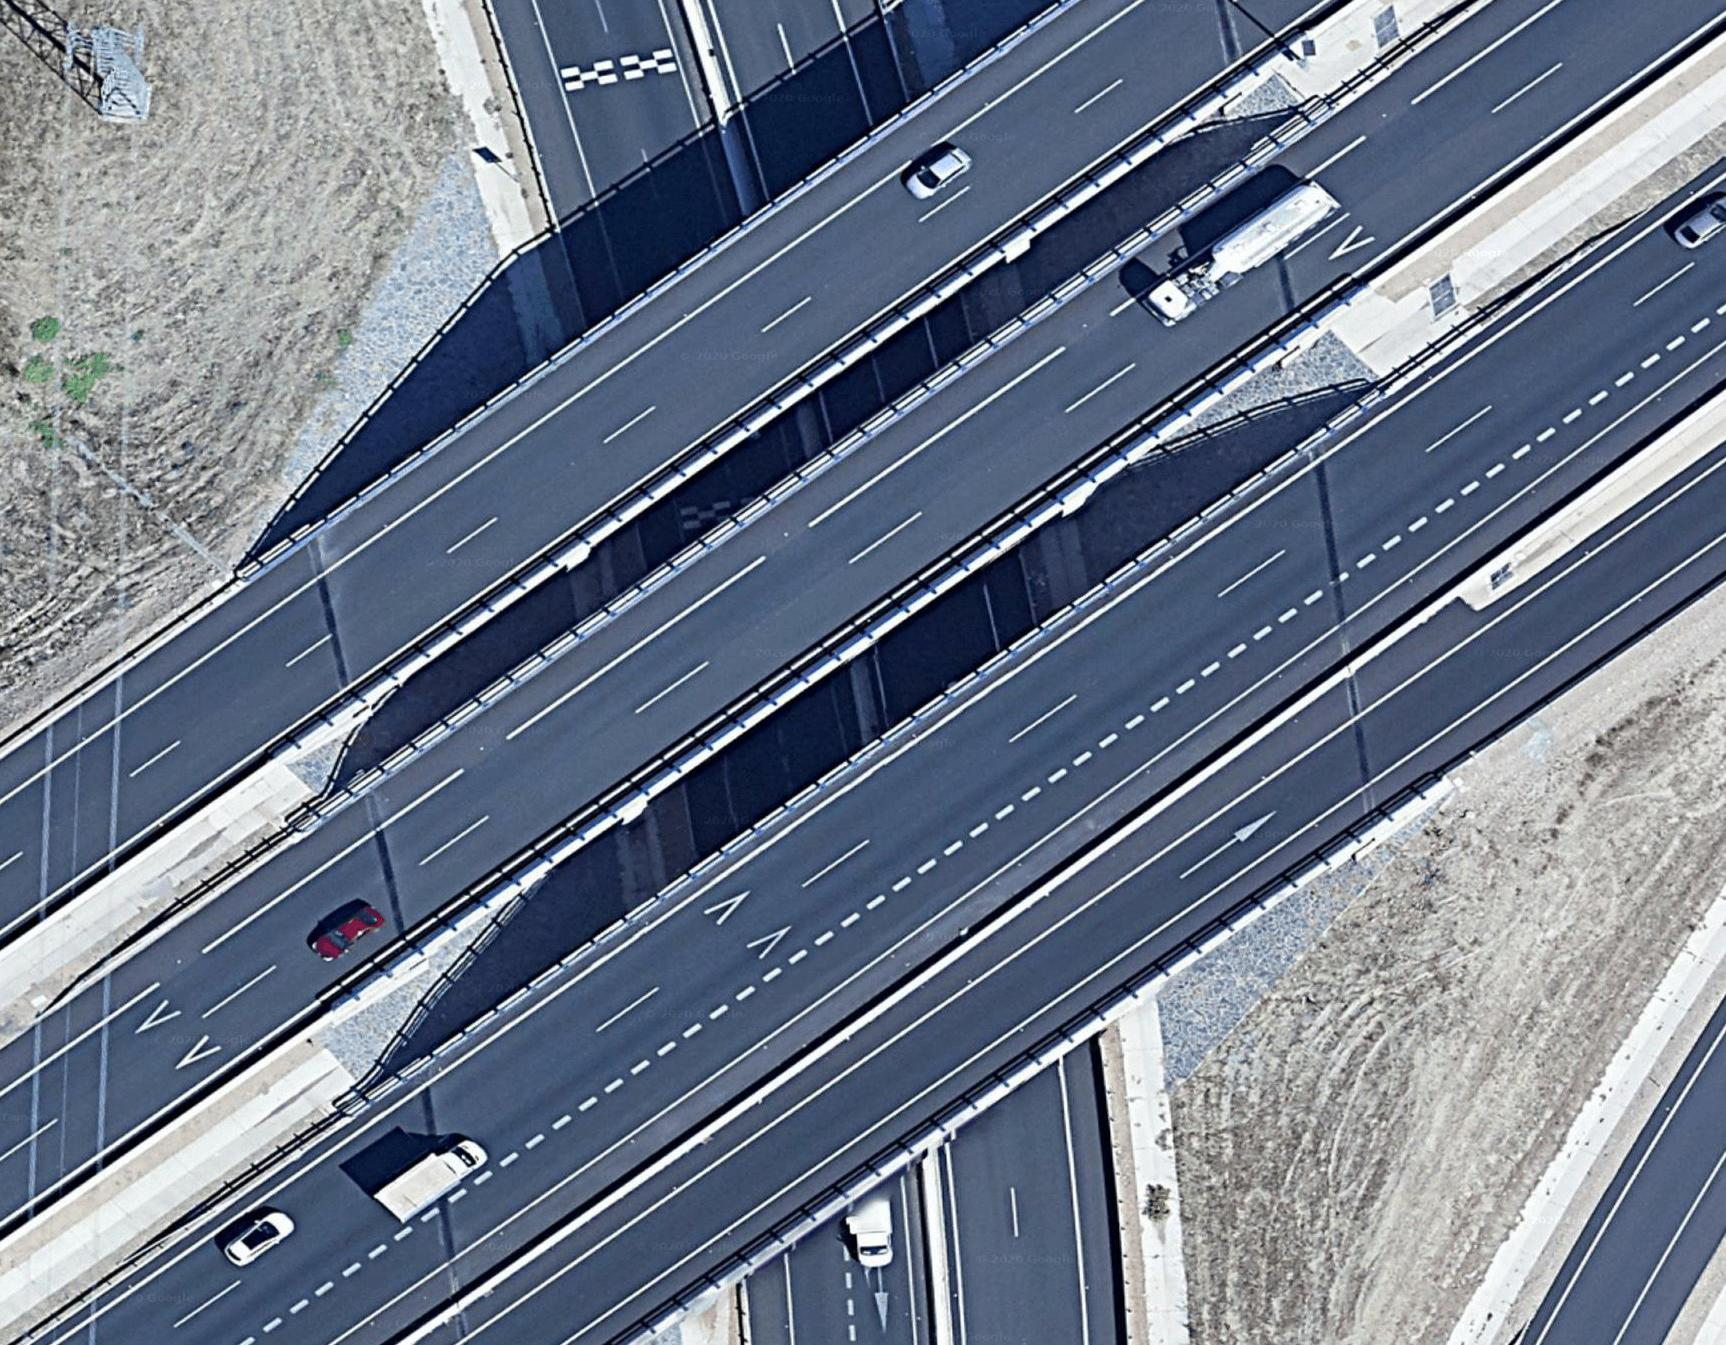bridge: (395, 233, 1388, 1251)
large-vehicle: (1140, 171, 1341, 336)
small-vehicle: (219, 1203, 296, 1268), (310, 899, 382, 961), (901, 143, 971, 202), (1670, 195, 1722, 251)
